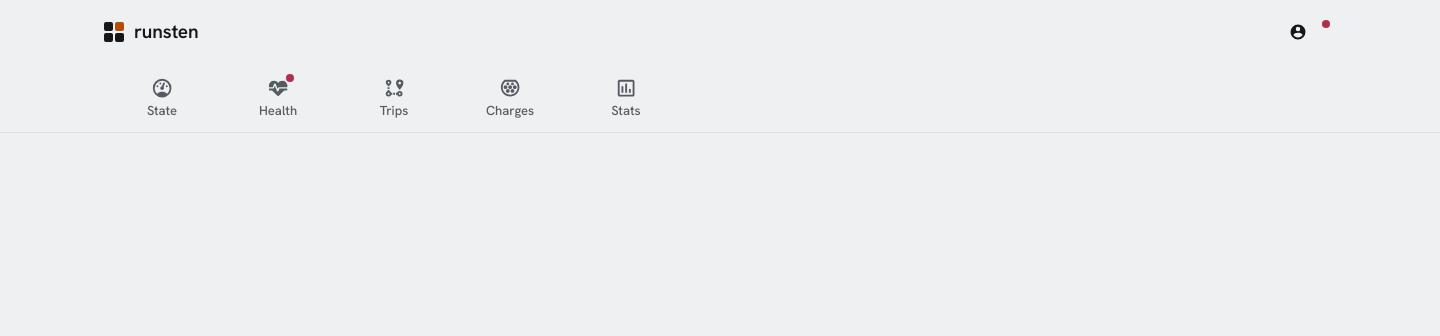
Test: AppShell › leads to the settings from the user menu, keeping no vehicle
Click the button with class "user-menu": x=1304, y=32 [1272,14,1336,50]
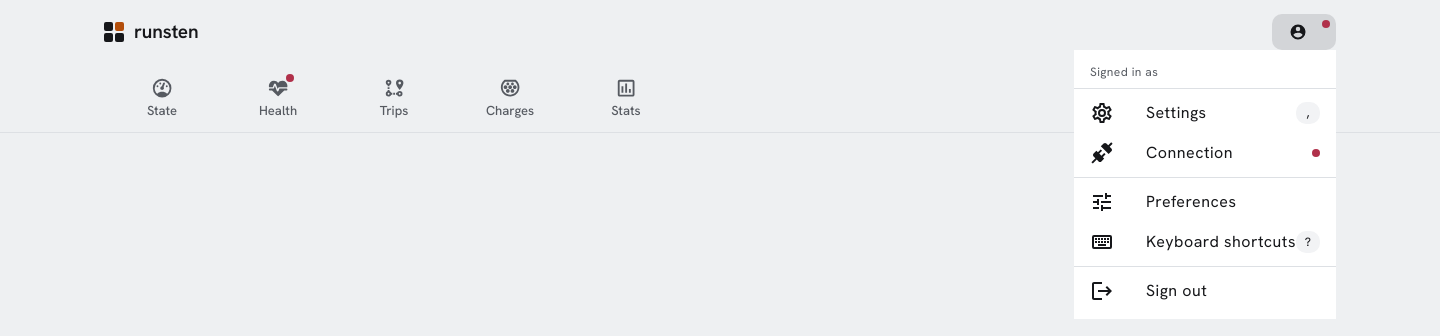
Check: the text "Settings" is shown, box [1146,102,1207,123]
